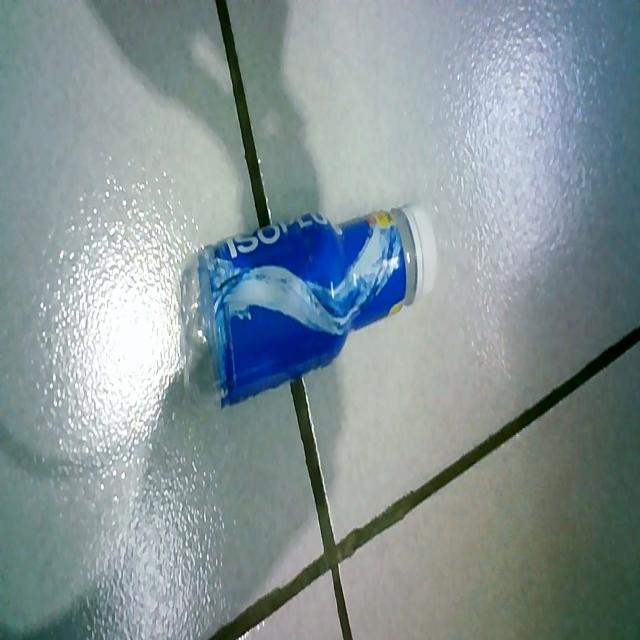botol: (162, 115, 480, 449)
